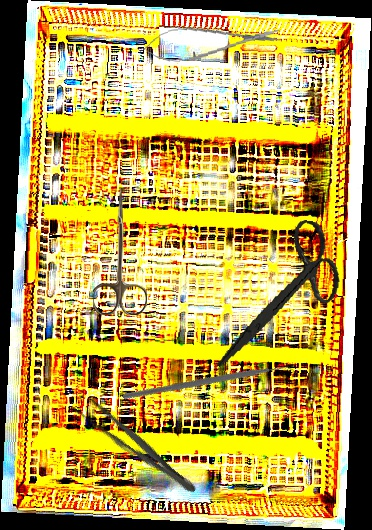Chopper: (121, 298, 301, 474)
Dressing Forceps: (69, 390, 203, 501)
Iris Scissors: (215, 209, 349, 384), (90, 188, 148, 316)
Micro Scissor: (141, 16, 283, 68)
